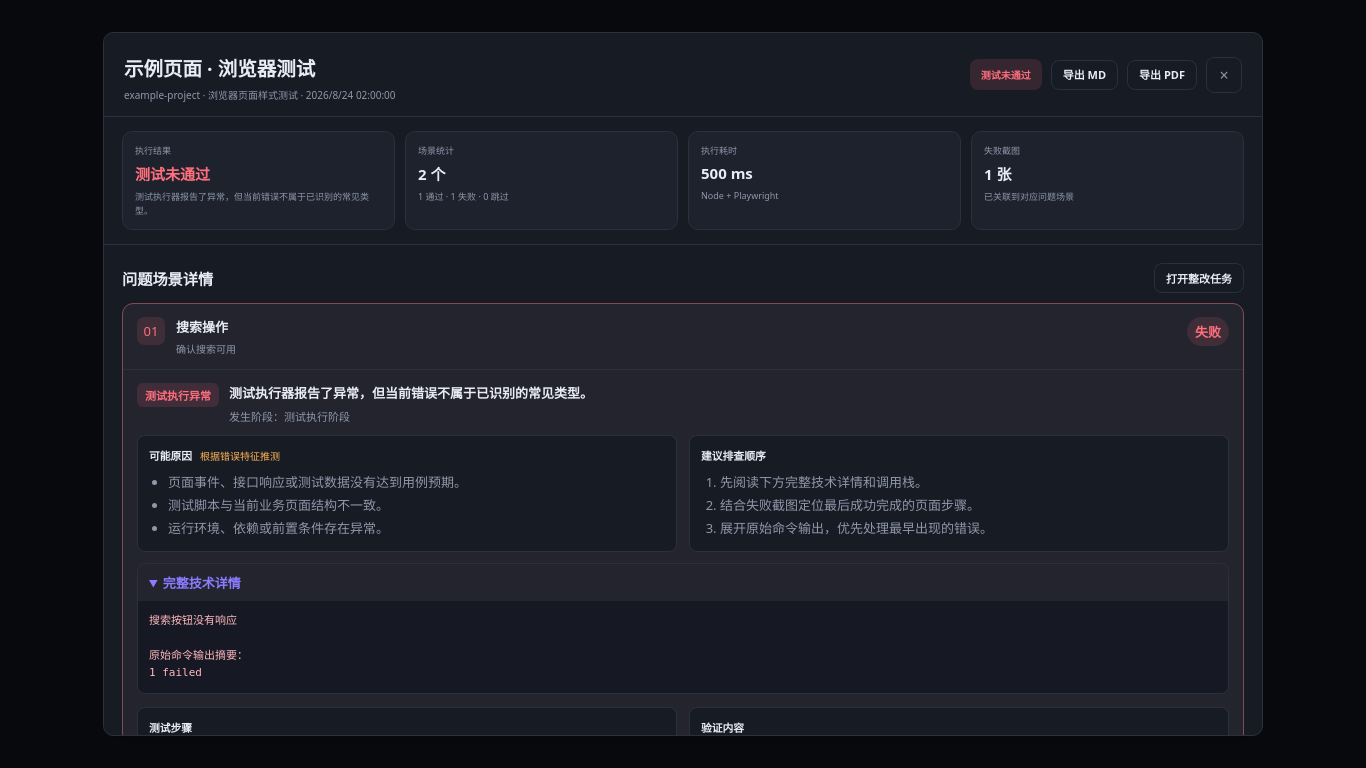
Test: TestReportDialog › 可把当前测试报告导出为 Markdown 文件
This screenshot has width=1366, height=768.
Click the button with test id "export-markdown": (1084, 74) top-left (1051, 60), bottom-right (1118, 90)
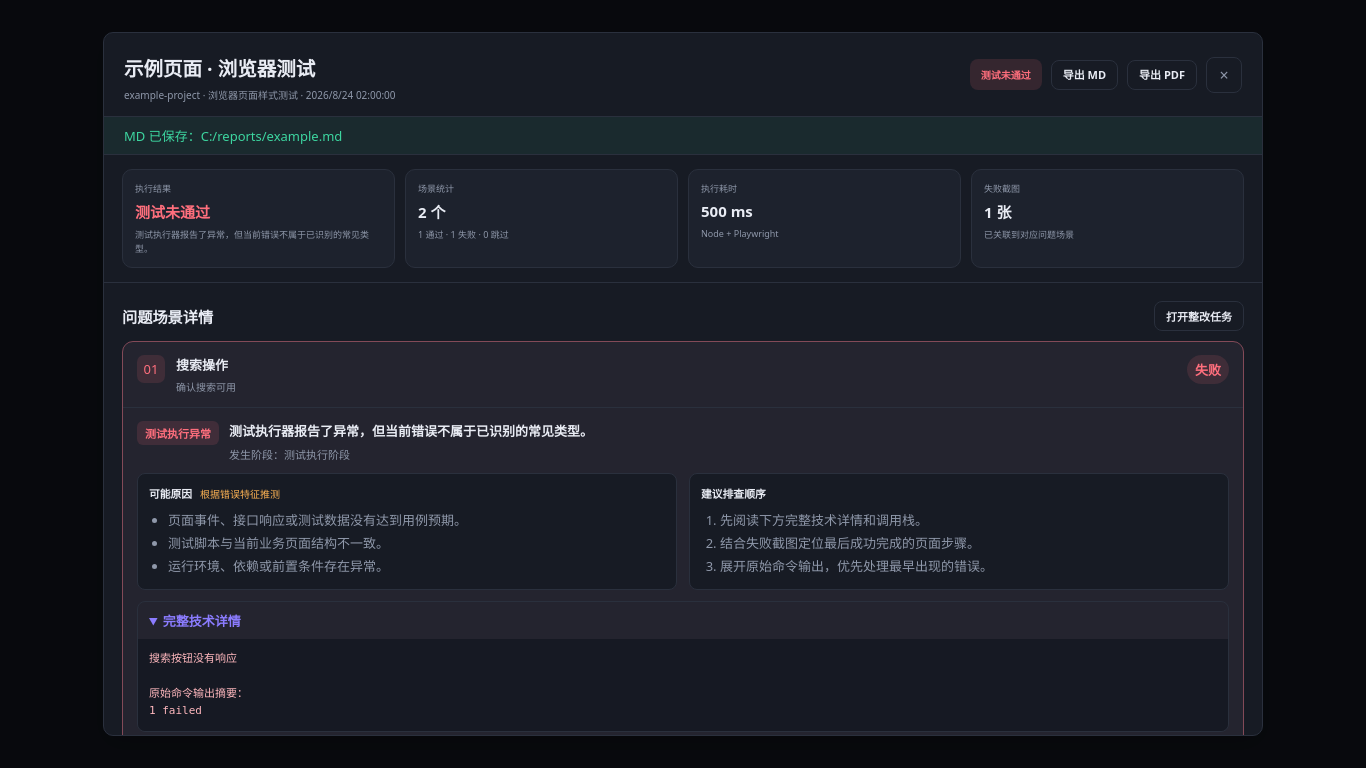
Check: the text "MD 已保存：C:/reports/example.md" is shown, box top-left (124, 127), bottom-right (342, 145)
